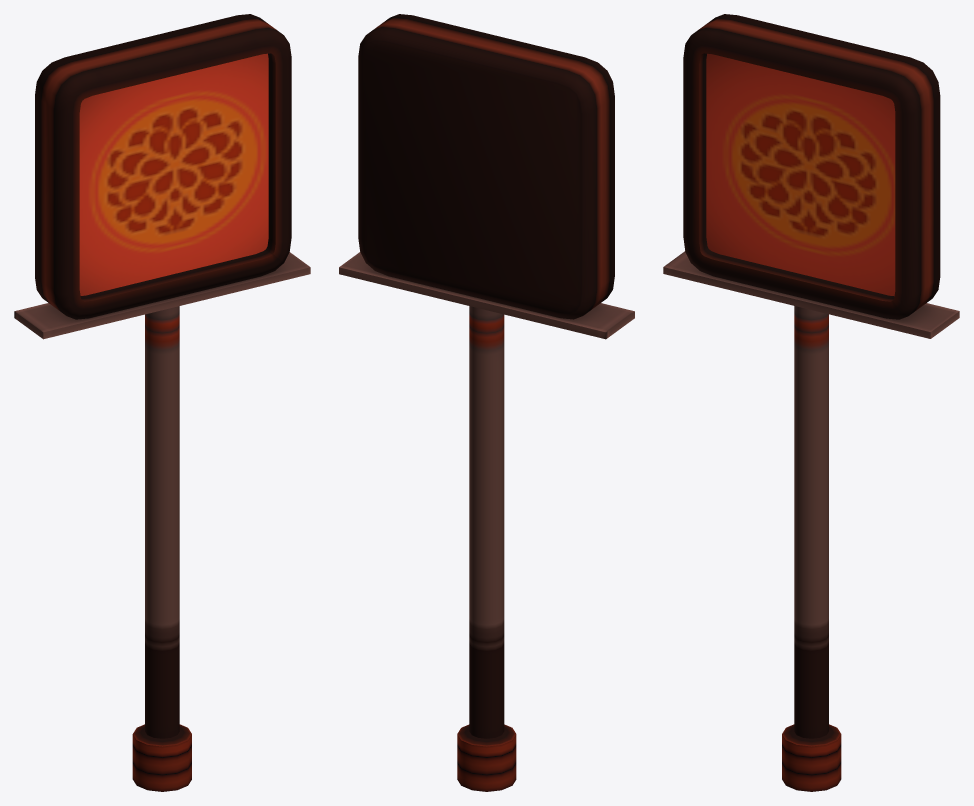
The model's file is Advertising_Pole_06.FBX.
3 renders of one model, left to right at view 1: azimuth 30°, elevation 25°; view 2: azimuth 150°, elevation 25°; view 3: azimuth 330°, elevation 25°, orthographic.
Parts seen in each view (by area): view 1: Advertising_Pole_06; view 2: Advertising_Pole_06; view 3: Advertising_Pole_06.
Part boxes in pixels (bbox=[...]): Advertising_Pole_06: bbox=[14, 14, 310, 791]; Advertising_Pole_06: bbox=[339, 14, 634, 791]; Advertising_Pole_06: bbox=[663, 14, 959, 791].
Bounding box in the file's own units: 45.24 × 119 × 8.7.
